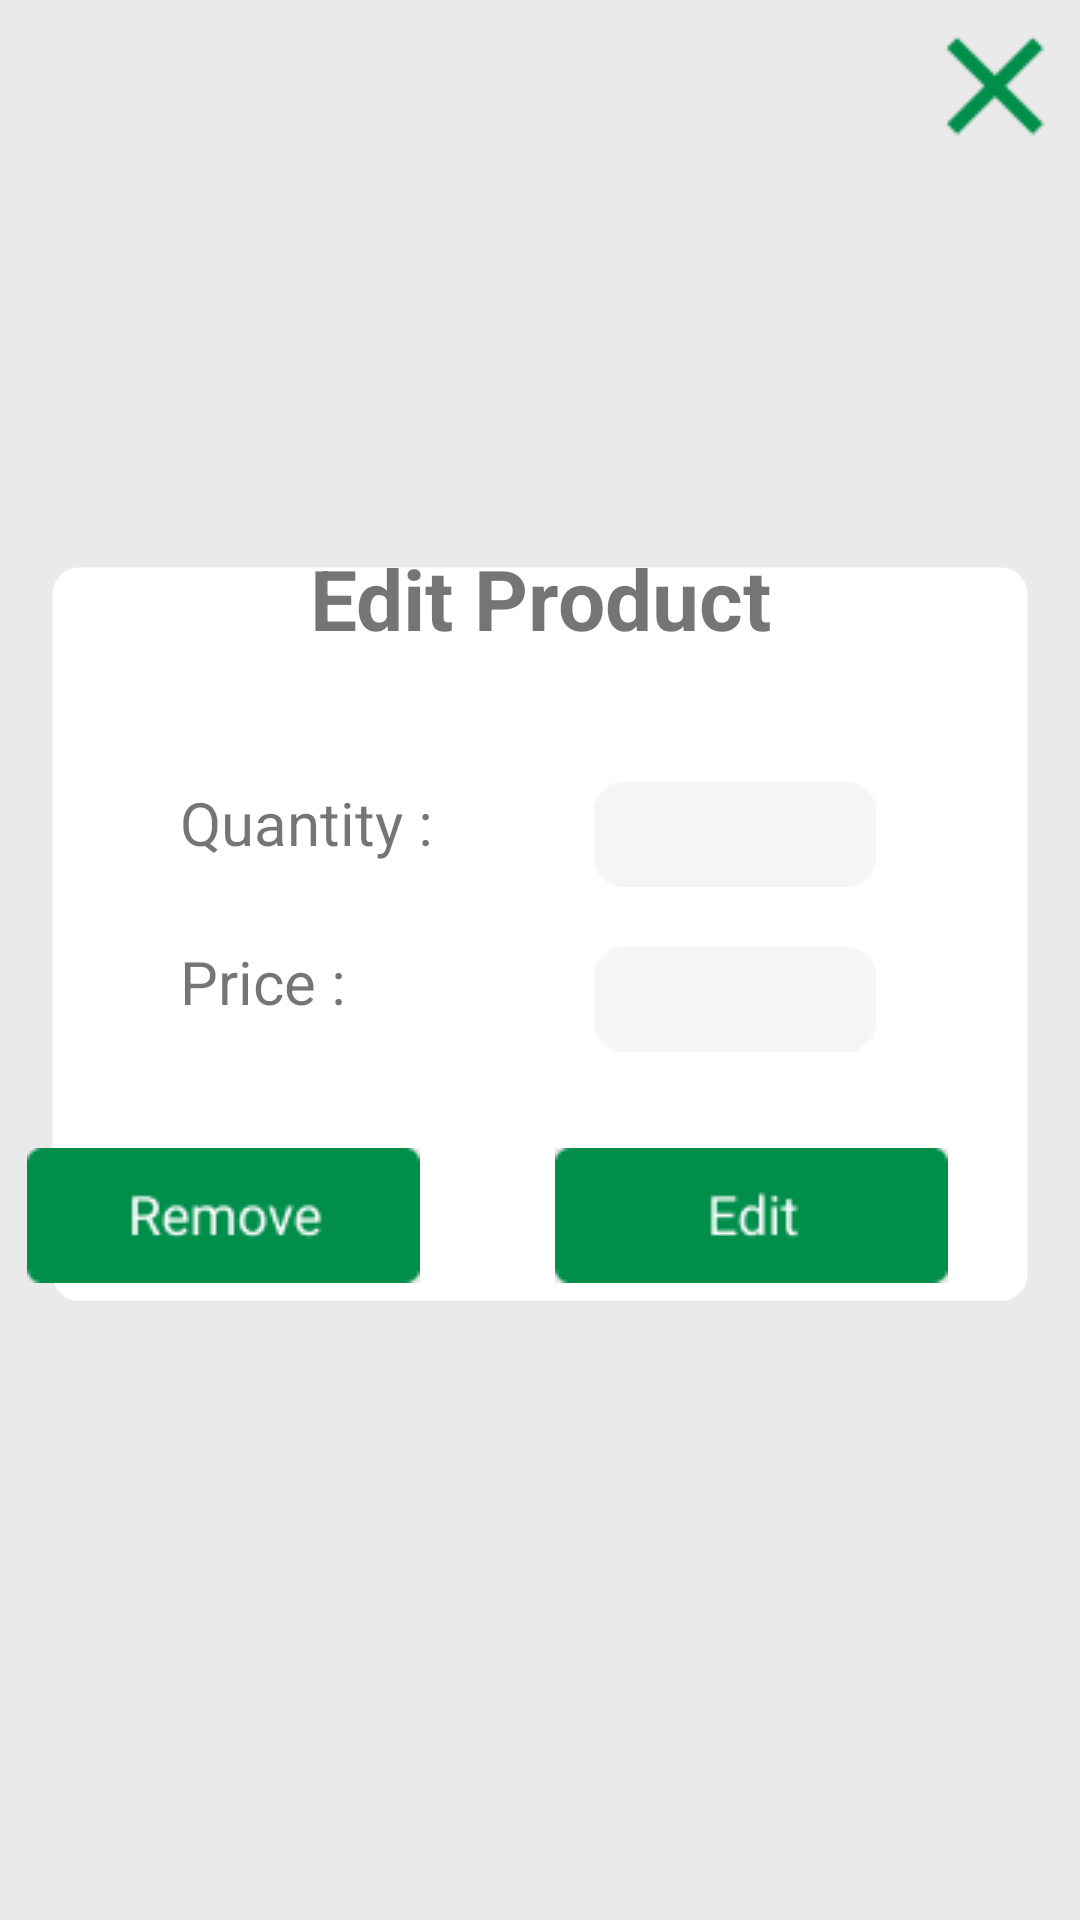

Where to tap for icons on this 1080w x 1920h app screen, as [x,y]:
cross: [995,86]
